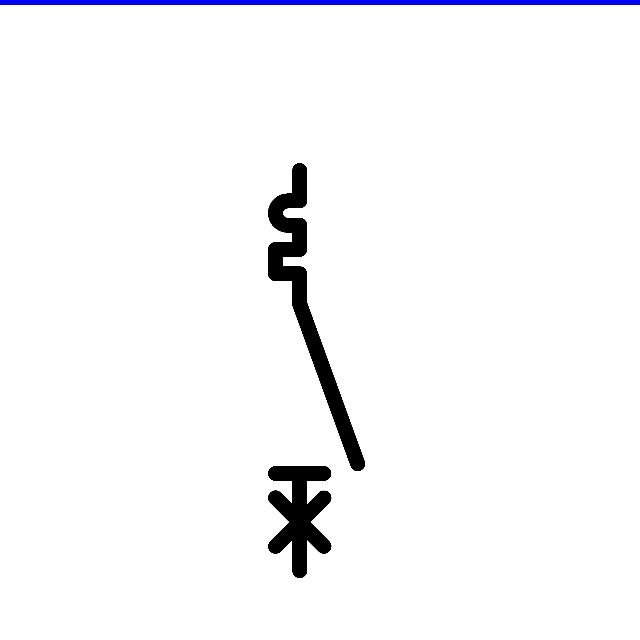interruptor_termomagnetico: (265, 160, 368, 581)
